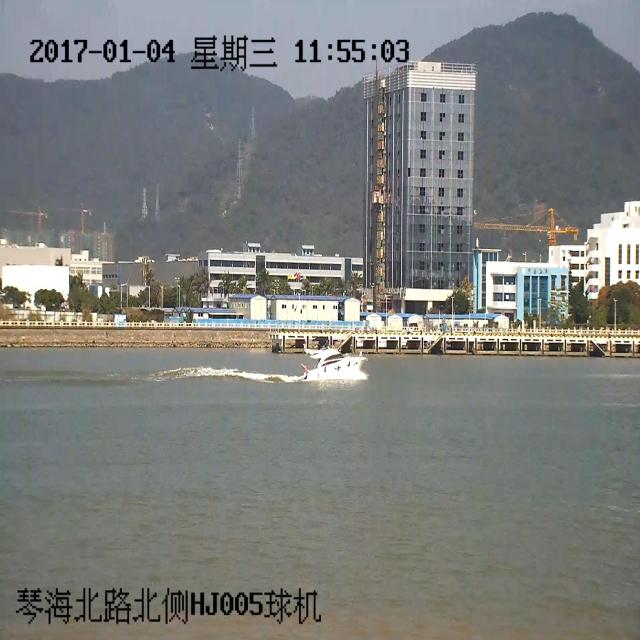houseboat: (307, 330, 367, 402)
